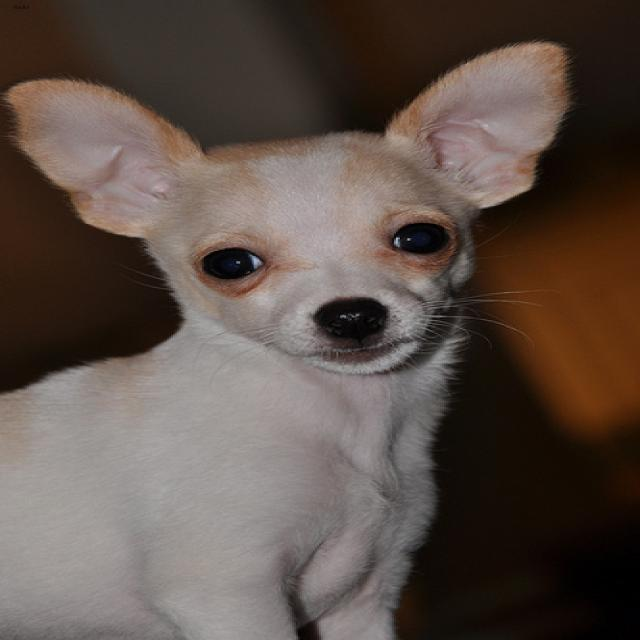dog-chihuahua: (2, 35, 584, 637)
